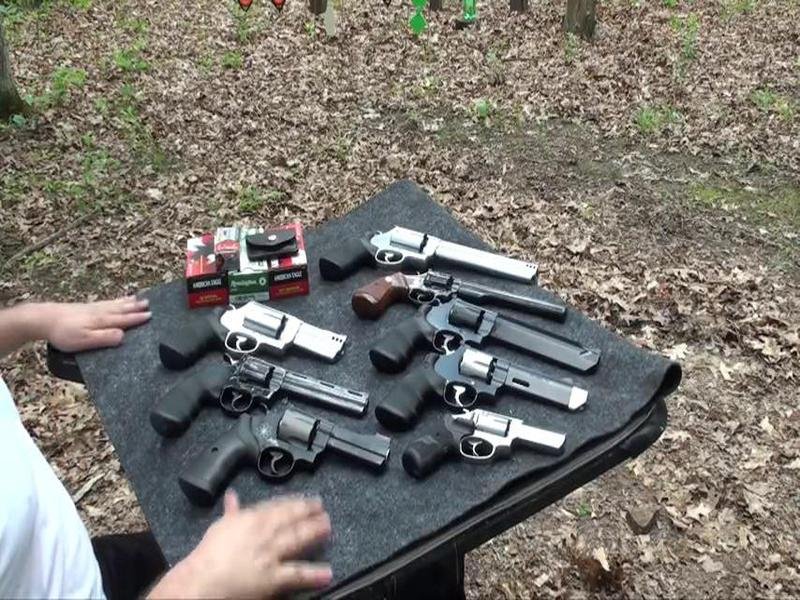Revolver: (167, 281, 358, 382)
